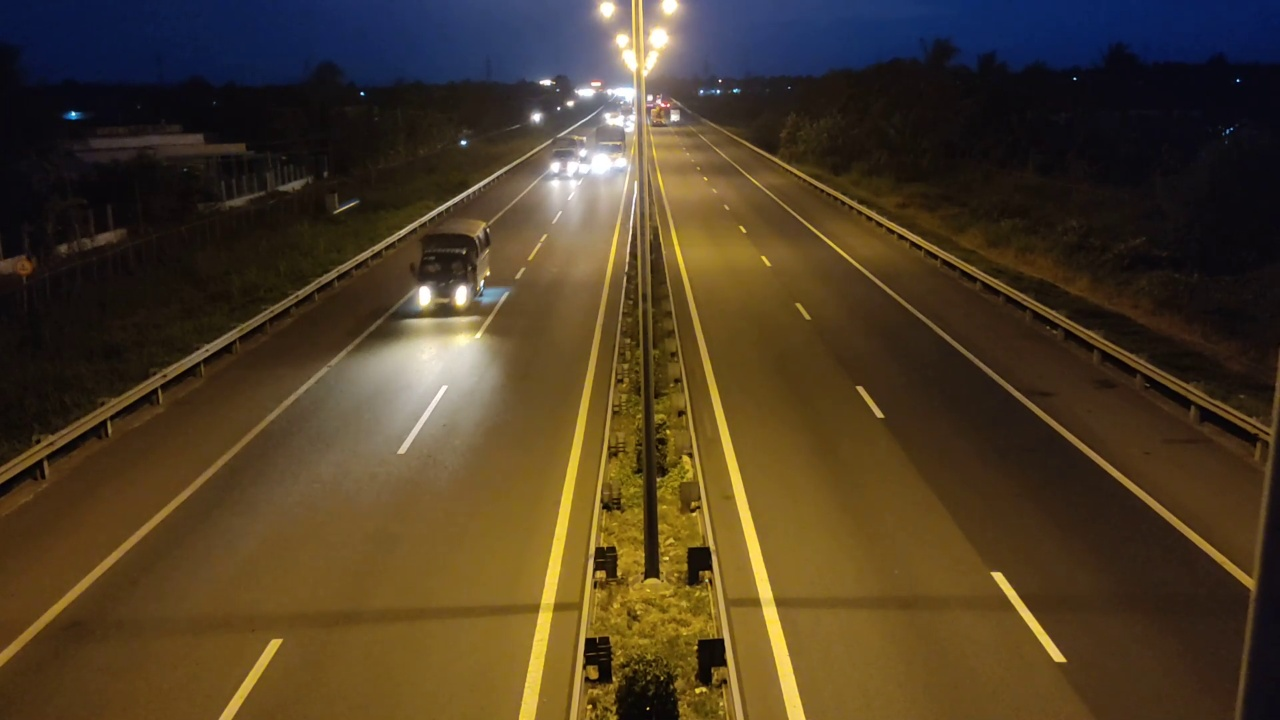truck: (410, 209, 498, 316)
